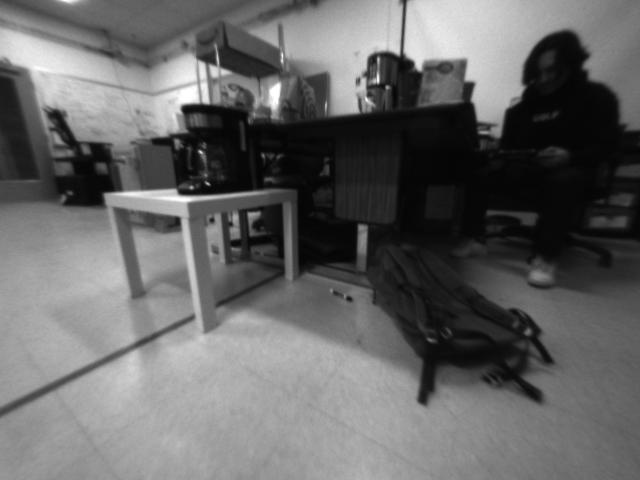coffee_pot: (176, 99, 254, 197)
